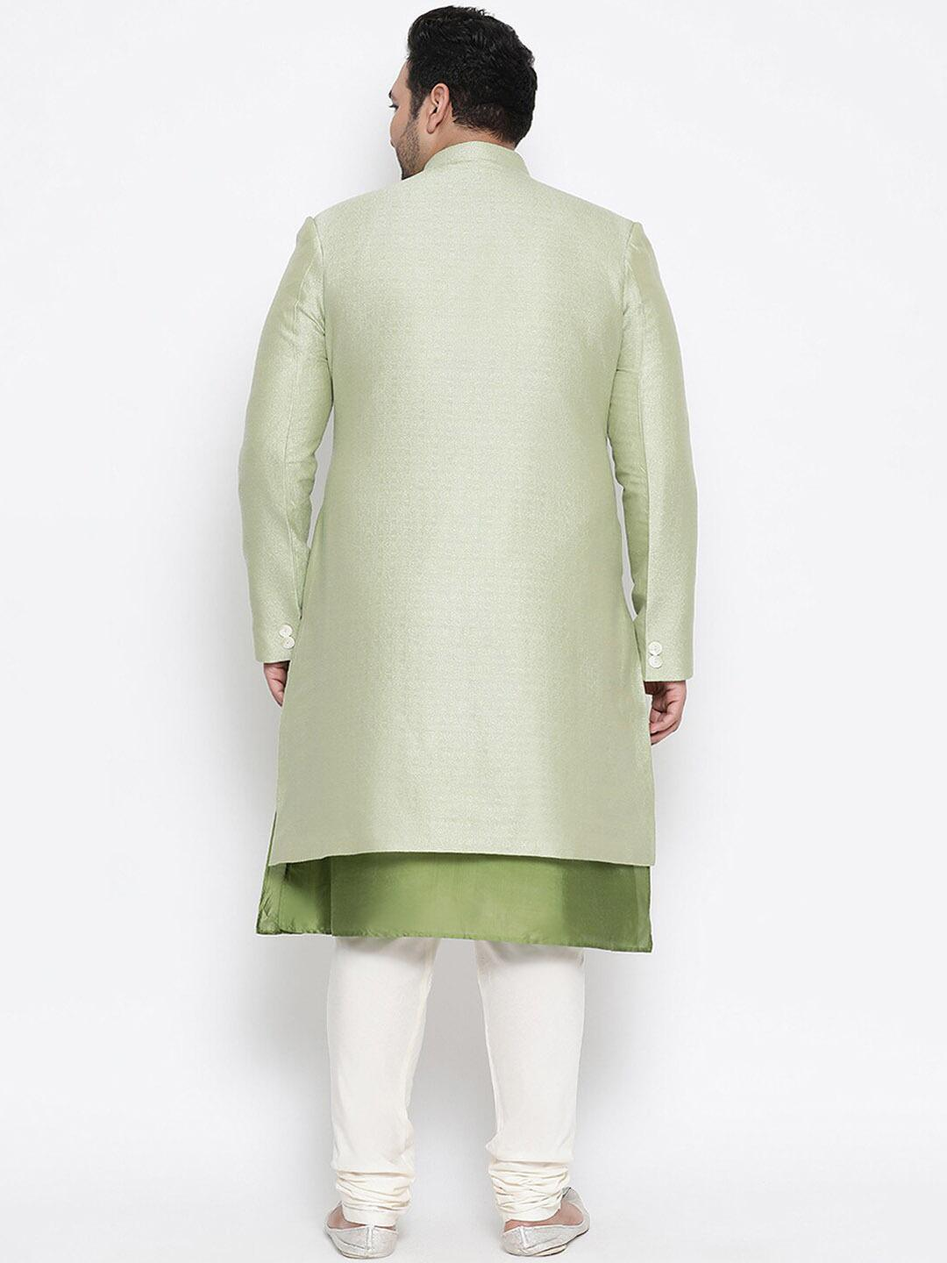Plain sherwani: (233, 139, 700, 876)
